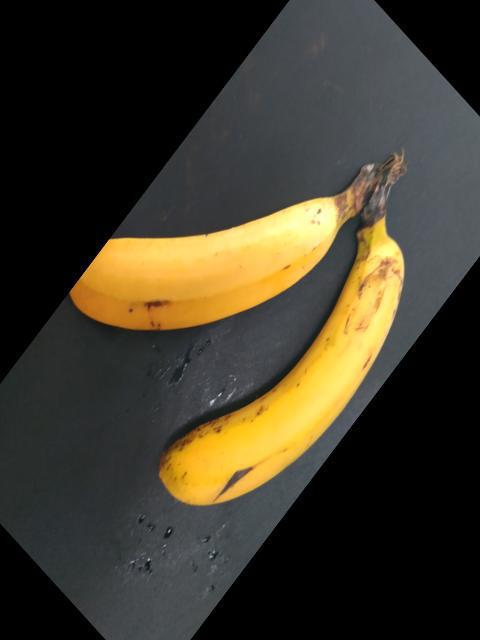freshripe: (56, 176, 359, 349)
ripe: (161, 246, 410, 546)
